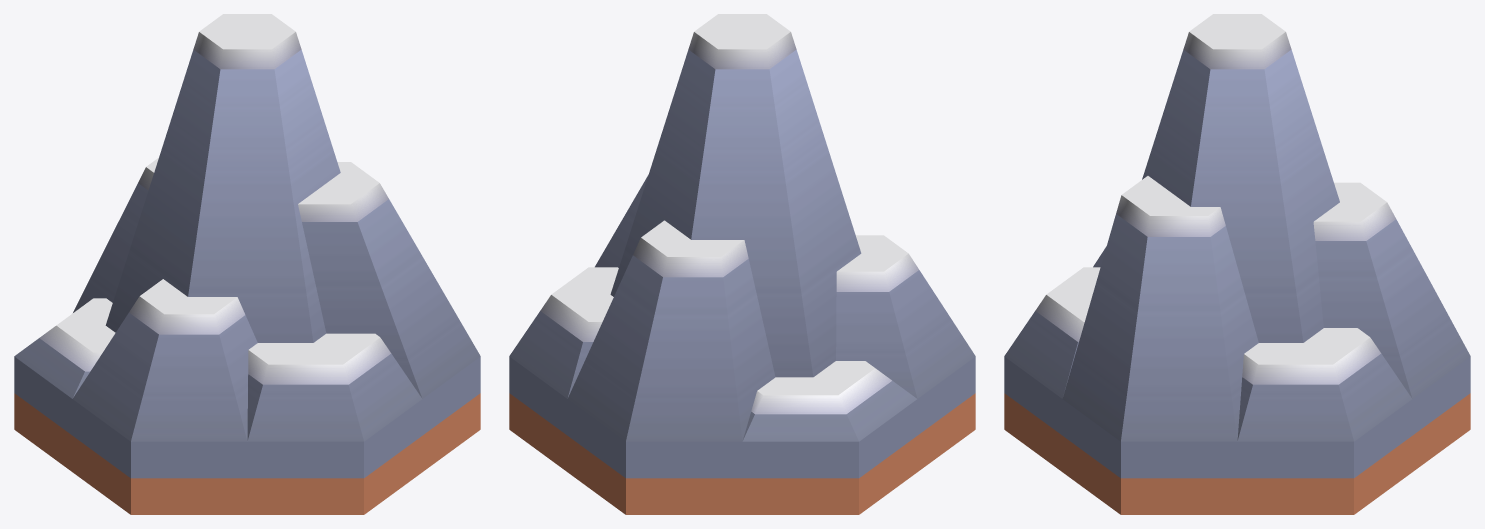
File: stone-mountain.fbx
The picture shows the model from 3 angles, left to right: view 1: azimuth 30°, elevation 25°; view 2: azimuth 150°, elevation 25°; view 3: azimuth 270°, elevation 25°; orthographic projection.
Parts seen in each view (by area): view 1: stone_mountain; view 2: stone_mountain; view 3: stone_mountain.
Boxes of the visible parts, <box> form: stone_mountain: <box>14,14,480,514</box>; stone_mountain: <box>509,14,975,514</box>; stone_mountain: <box>1004,14,1470,514</box>.
Size of the model in its own units: 100 by 109 by 115.
1 material, 1 textured.
